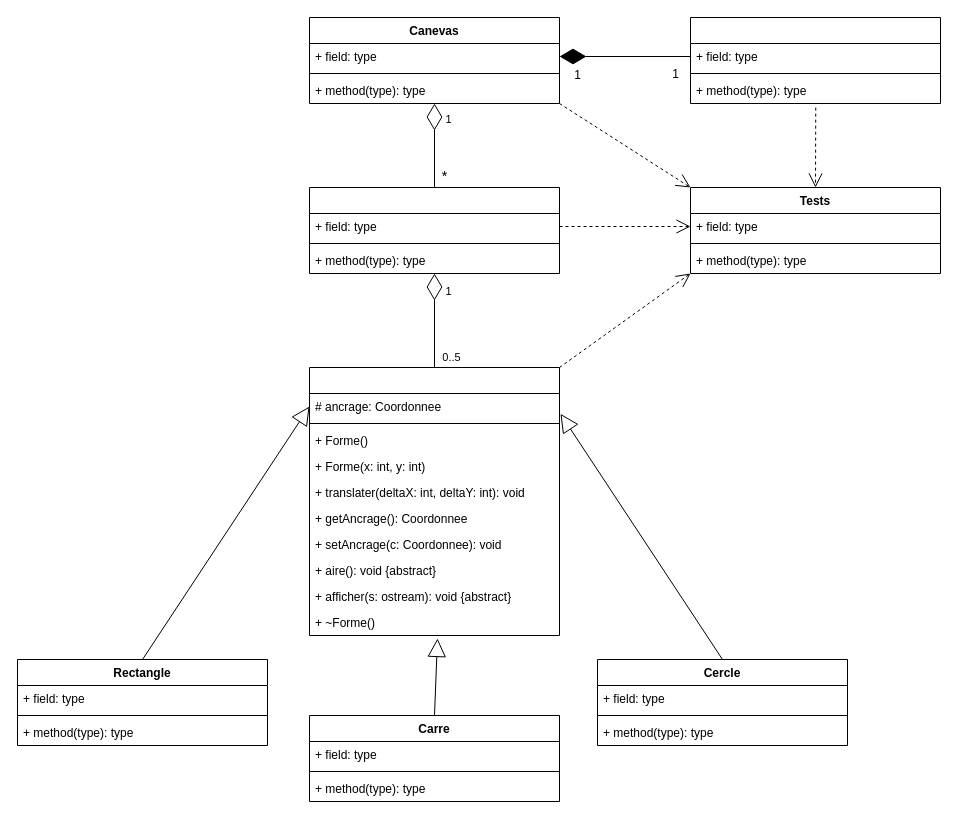
The diagram is 958 pixels wide and 822 high, and some of its shapes have lost their labels. The box of each missing label's shape, as (x1, y1, x2, y2) in pixels:
Couche: (308, 186, 560, 274)
Forme{abstract}: (308, 366, 560, 636)
Vecteur: (690, 16, 940, 104)
